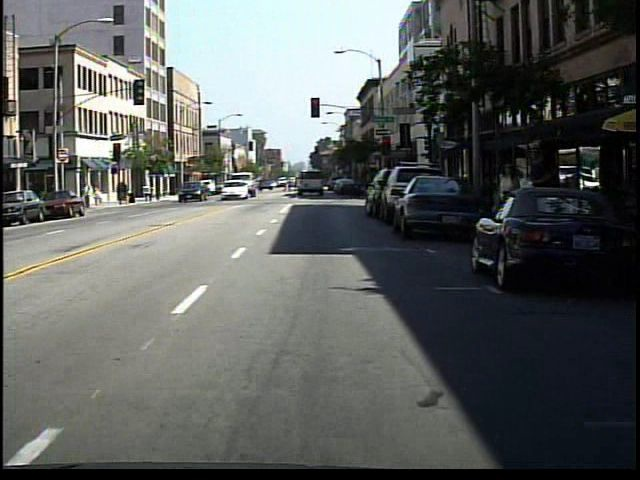person: (522, 139, 558, 259), (495, 155, 522, 255), (81, 178, 96, 211), (94, 183, 107, 210)
